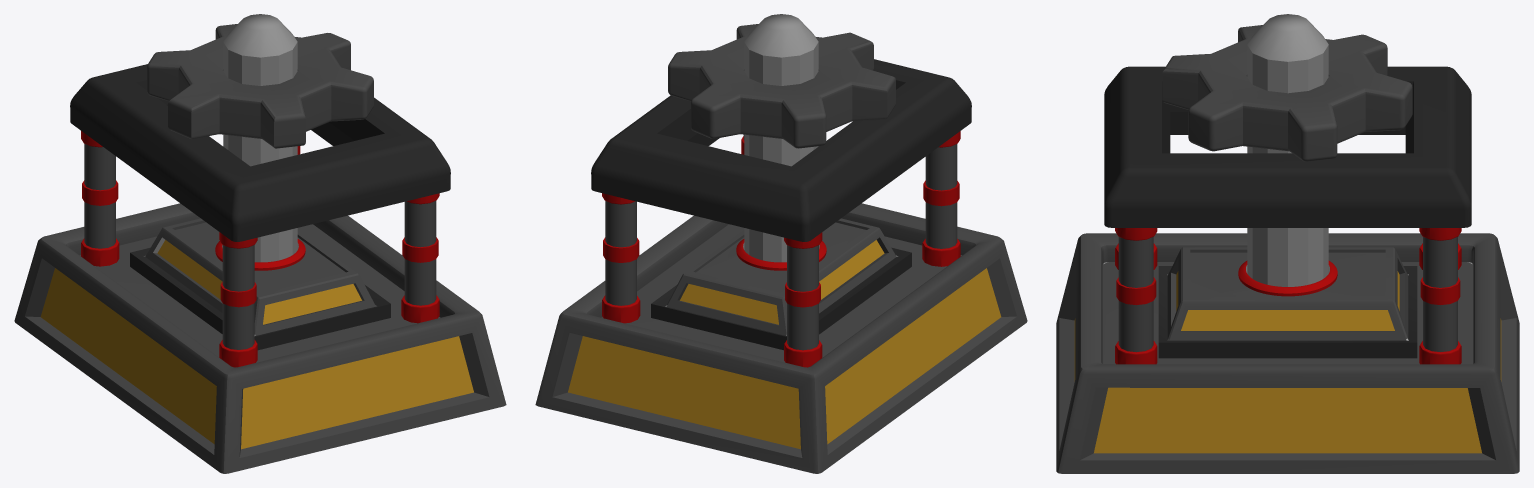
File: Machine_02.fbx
3 views of the same model, side by side, from view 1: azimuth 30°, elevation 25°; view 2: azimuth 150°, elevation 25°; view 3: azimuth 270°, elevation 25° (orthographic). The views are drawn at different scales.
Parts seen in each view (by area): view 1: MachineBase, Wheel; view 2: MachineBase, Wheel; view 3: MachineBase, Wheel.
Part boxes in pixels (x1,y1,x2,y2): MachineBase: (14, 64, 506, 473); Wheel: (147, 14, 373, 262); MachineBase: (535, 59, 1027, 473); Wheel: (668, 14, 895, 262); MachineBase: (1056, 66, 1519, 473); Wheel: (1162, 14, 1412, 286).
Size of the model in its own units: 4.03 by 4.6 by 5.16.
